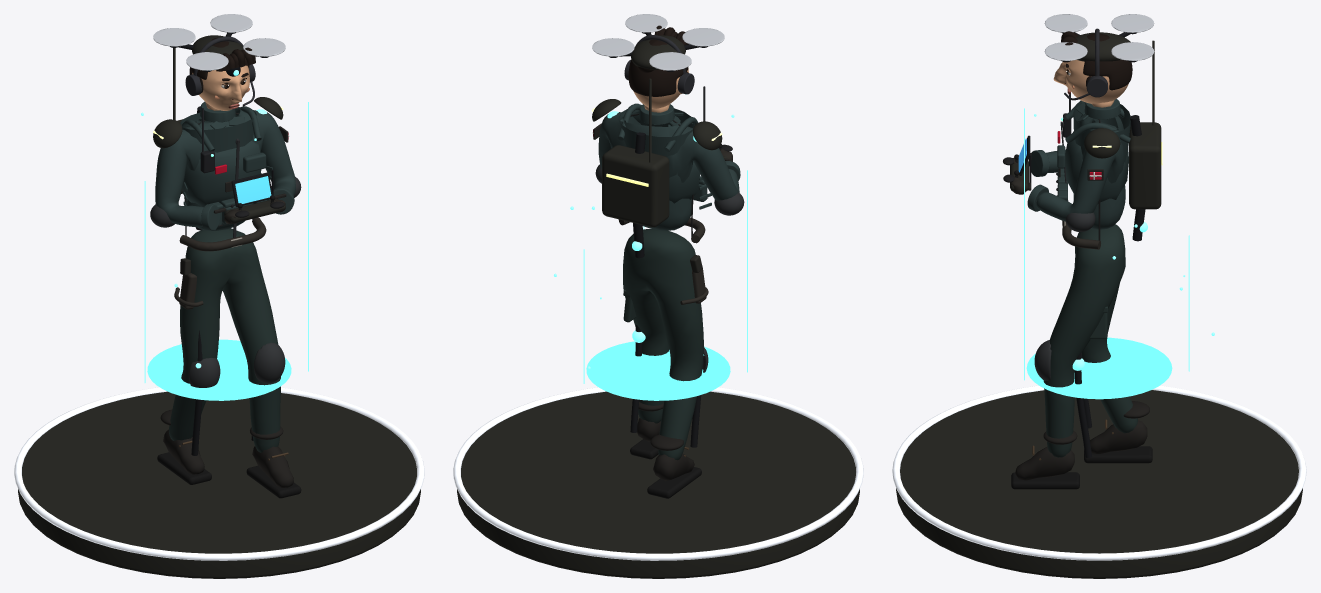
File: drone_std.glb
The picture shows the model from 3 angles, left to right: view 1: azimuth 30°, elevation 25°; view 2: azimuth 150°, elevation 25°; view 3: azimuth 270°, elevation 25°; orthographic projection.
Visible parts, largest first — view 1: fod_net, menneske_net, op1_net, op4.001_net, drone_net, hoved_net, vaaben_net, op3_net, op4_net; view 2: fod_net, menneske_net, op3_net, op4.001_net, drone_net, op1_net, hoved_net, op4_net; view 3: fod_net, menneske_net, op4.001_net, op1_net, op3_net, drone_net, hoved_net, op4_net, vaaben_net.
Boxes of the visible parts, bbox=[...] form: fod_net: bbox=[14, 387, 424, 578]; menneske_net: bbox=[155, 101, 301, 498]; op1_net: bbox=[150, 106, 301, 387]; op4.001_net: bbox=[141, 102, 308, 400]; drone_net: bbox=[153, 14, 285, 76]; hoved_net: bbox=[185, 36, 255, 110]; vaaben_net: bbox=[224, 169, 285, 223]; op3_net: bbox=[153, 48, 283, 193]; op4_net: bbox=[191, 106, 266, 455]; fod_net: bbox=[453, 387, 863, 578]; menneske_net: bbox=[592, 104, 740, 498]; op3_net: bbox=[592, 78, 722, 227]; op4.001_net: bbox=[554, 94, 747, 400]; drone_net: bbox=[592, 14, 724, 71]; op1_net: bbox=[595, 86, 744, 372]; hoved_net: bbox=[624, 25, 694, 108]; op4_net: bbox=[607, 111, 705, 447]; fod_net: bbox=[892, 385, 1306, 578]; menneske_net: bbox=[1003, 99, 1152, 489]; op4.001_net: bbox=[1024, 108, 1214, 399]; op1_net: bbox=[1034, 94, 1130, 380]; op3_net: bbox=[1084, 40, 1162, 209]; drone_net: bbox=[1044, 14, 1154, 62]; hoved_net: bbox=[1053, 28, 1132, 103]; op4_net: bbox=[1072, 115, 1147, 457]; vaaben_net: bbox=[1010, 135, 1031, 191].
Size of the model in its own units: 1.94 by 2.38 by 1.94.
